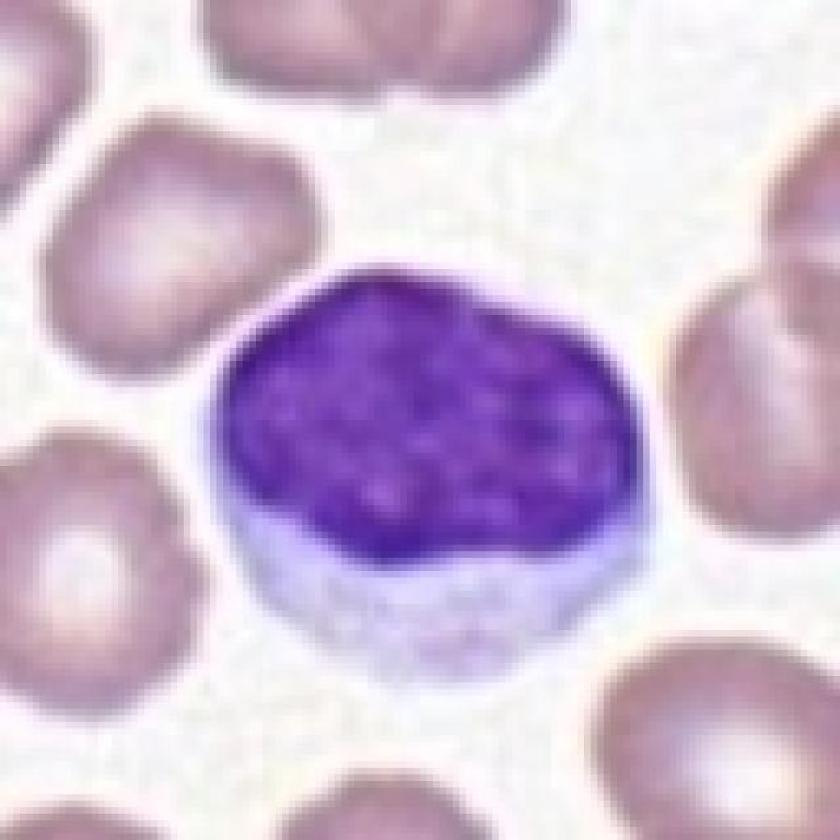lymphocyte: (203, 259, 659, 688)
